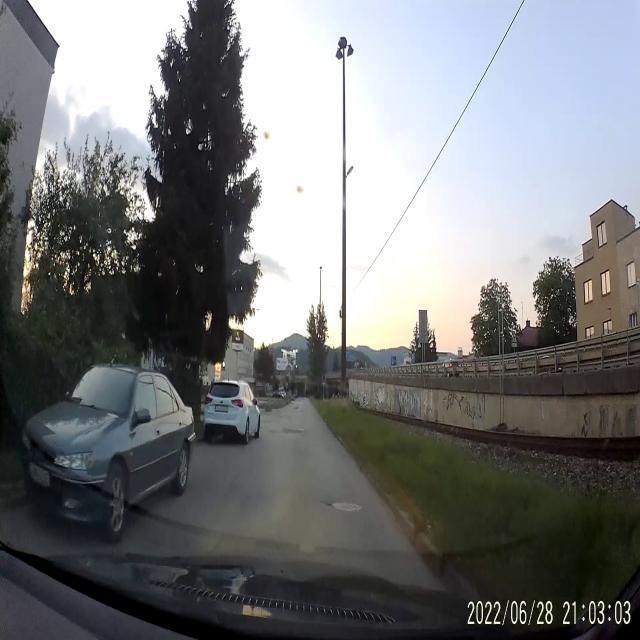Manhole: (331, 498, 364, 516)
Pothole: (280, 424, 304, 436)
